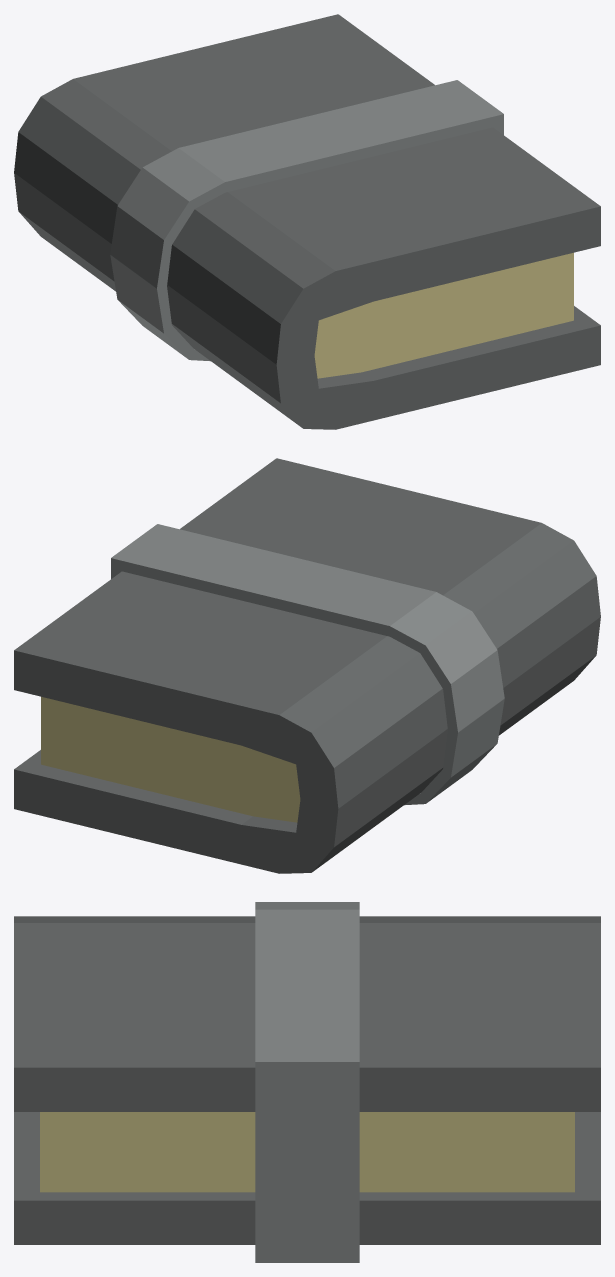
The model's file is Book_5_Gray.fbx.
3 renders of one model, top to bottom at view 1: azimuth 30°, elevation 25°; view 2: azimuth 150°, elevation 25°; view 3: azimuth 270°, elevation 25°, orthographic. The views are drawn at different scales.
Parts seen in each view (by area): view 1: Book_5_Gray_Part_1, Book_5_Gray_Part_3, Book_5_Gray_Part_2; view 2: Book_5_Gray_Part_1, Book_5_Gray_Part_3, Book_5_Gray_Part_2; view 3: Book_5_Gray_Part_1, Book_5_Gray_Part_3, Book_5_Gray_Part_2.
Boxes of the visible parts, <box> form: Book_5_Gray_Part_1: <box>14,14,600,429</box>; Book_5_Gray_Part_3: <box>110,80,503,361</box>; Book_5_Gray_Part_2: <box>314,252,573,378</box>; Book_5_Gray_Part_1: <box>14,458,600,873</box>; Book_5_Gray_Part_3: <box>111,524,504,805</box>; Book_5_Gray_Part_2: <box>41,696,300,822</box>; Book_5_Gray_Part_1: <box>14,916,600,1244</box>; Book_5_Gray_Part_3: <box>255,902,359,1262</box>; Book_5_Gray_Part_2: <box>40,1112,574,1192</box>.
Size of the model in its own units: 34.35 by 17 by 45.
